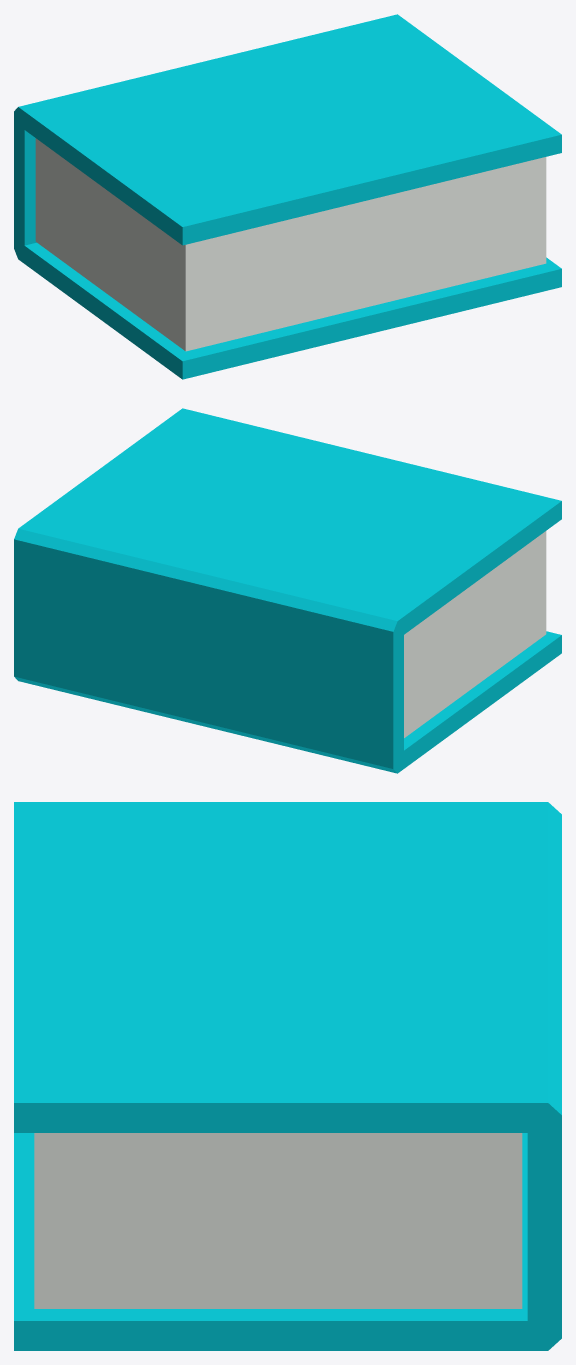
File: Book_2c.fbx
The picture shows the model from 3 angles, top to bottom: view 1: azimuth 30°, elevation 25°; view 2: azimuth 150°, elevation 25°; view 3: azimuth 270°, elevation 25°; orthographic projection. The views are drawn at different scales.
Visible parts, largest first — view 1: Book_2c; view 2: Book_2c; view 3: Book_2c.
Part boxes in pixels (box(x1,y1,x2,y2)): Book_2c: box(14, 14, 561, 379); Book_2c: box(14, 408, 561, 773); Book_2c: box(14, 802, 561, 1350).
Bounding box in the file's own units: 0.2083 × 0.08 × 0.1603.
